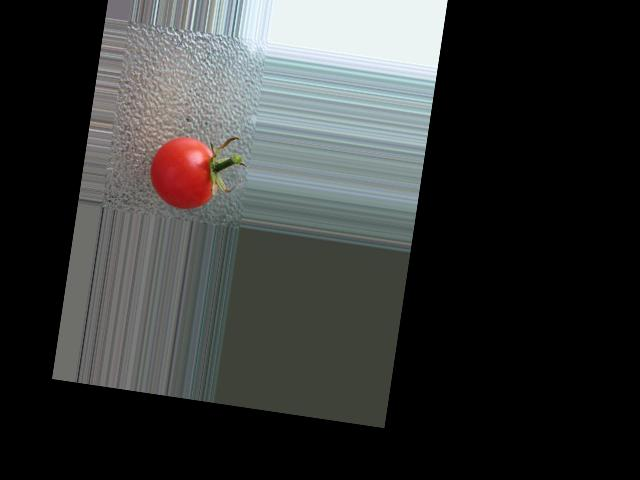tomato: (144, 131, 220, 212)
